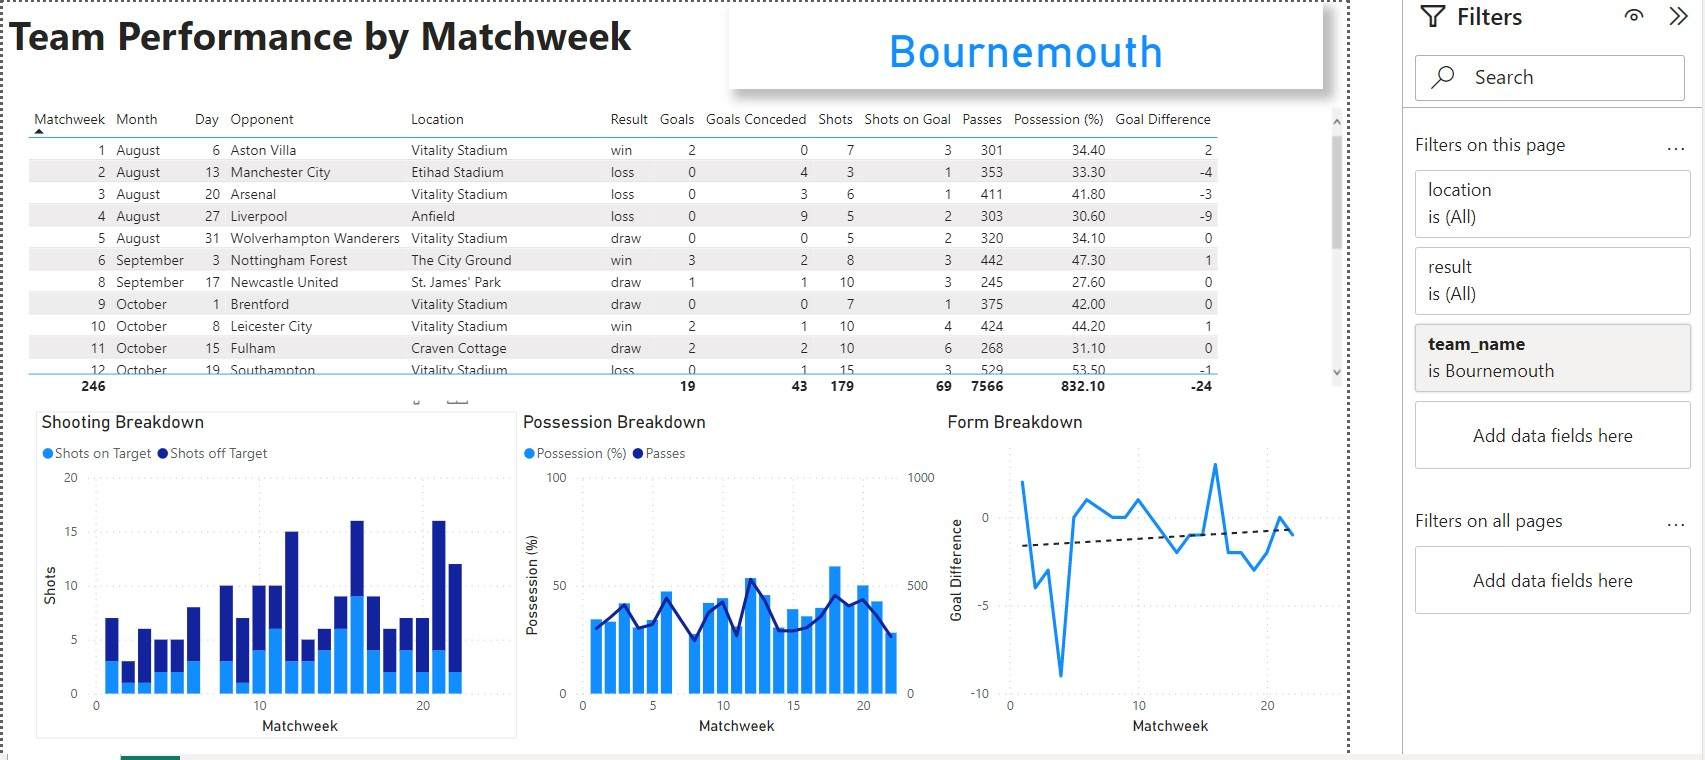

What the dashboard file says about the page in this screenshot:
{"tool":"powerbi","page":{"name":"Page 1","canvas":[1280,720],"ordinal":0},"visuals":[{"type":"columnChart","title":"Shooting Breakdown","fields":{"Category":["epl_2022_2023 team_performance.matchweek"],"Y":["Sum(epl_2022_2023 team_performance.shots_on_target)","epl_2022_2023 team_performance.shots minus shots_on_target"]},"box":[31.4,390,458.6,311.4],"z":0},{"type":"textbox","box":[0,0,621.4,95.7],"z":1},{"type":"lineStackedColumnComboChart","title":"Possession Breakdown","fields":{"Category":["epl_2022_2023 team_performance.matchweek"],"Y":["Sum(epl_2022_2023 team_performance.possession)"],"Y2":["Sum(epl_2022_2023 team_performance.passes)"]},"box":[490,390,422.9,311.4],"z":2},{"type":"tableEx","fields":{"Values":["Sum(epl_2022_2023 team_performance.matchweek)","epl_2022_2023 team_performance.date_played.Variation.Date Hierarchy.Month","epl_2022_2023 team_performance.date_played.Variation.Date Hierarchy.Day","epl_2022_2023 team_performance.opponent_name","epl_2022_2023 team_performance.location","epl_2022_2023 team_performance.result","Sum(epl_2022_2023 team_performance.score)","Sum(epl_2022_2023 team_performance.opponent_score)","Sum(epl_2022_2023 team_performance.shots)","Sum(epl_2022_2023 team_performance.shots_on_target)","Sum(epl_2022_2023 team_performance.passes)","Sum(epl_2022_2023 team_performance.possession)"]},"box":[18.6,95.7,1261.4,284.3],"z":3},{"type":"lineChart","title":"Form Breakdown","fields":{"Category":["epl_2022_2023 team_performance.matchweek"],"Y":["epl_2022_2023 team_performance.score minus opponent_score"]},"box":[894.3,390,385.7,311.4],"z":4},{"type":"card","fields":{"Values":["epl_2022_2023 team_performance.SelectedTeam"]},"box":[691.4,0,565.7,82.9],"z":5}]}

Visuals, with their boxes on the page's 1280x720 design canvas (x1, y1, x2, y2). These are canvas units, not pixel positions in the 1705x760 screenshot, which may show the page scaled, cropped or inside an application window:
"Shooting Breakdown" columnChart: <region>31, 390, 490, 701</region>
textbox: <region>0, 0, 621, 96</region>
"Possession Breakdown" lineStackedColumnComboChart: <region>490, 390, 913, 701</region>
tableEx - Sum(epl_2022_2023 team_performance.matchweek) x epl_2022_2023 team_performance.date_played.Variation.Date Hierarchy.Month: <region>19, 96, 1280, 380</region>
"Form Breakdown" lineChart: <region>894, 390, 1280, 701</region>
card - epl_2022_2023 team_performance.SelectedTeam: <region>691, 0, 1257, 83</region>
